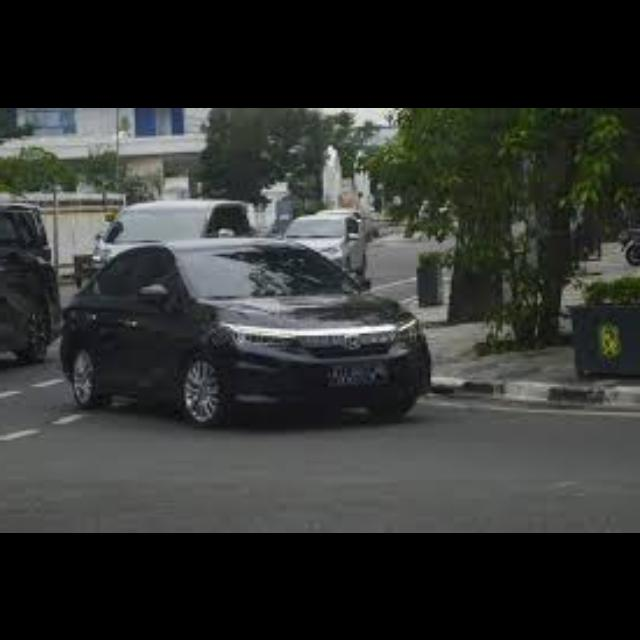vehicles: (64, 232, 428, 428)
